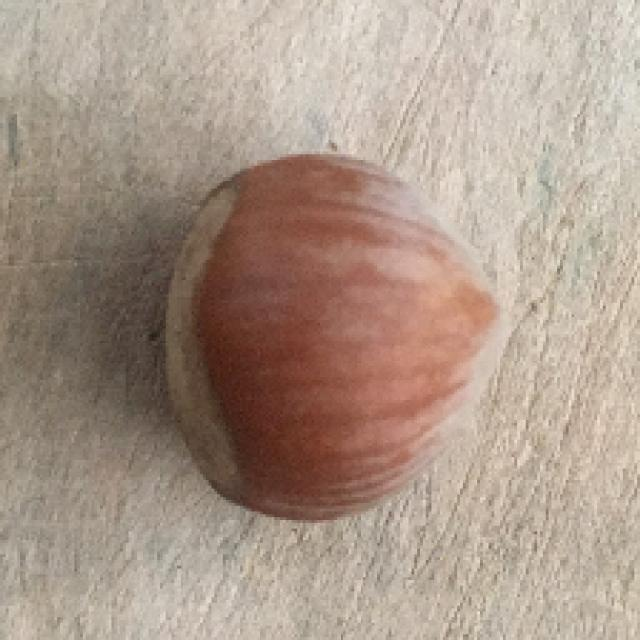qualityHazelnut: (154, 156, 516, 534)
